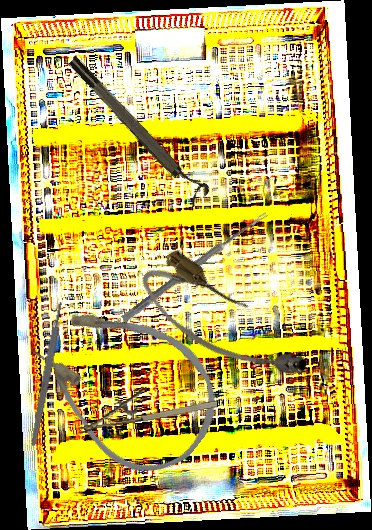Cannula: (7, 271, 243, 497), (130, 242, 318, 407)
Fixation Ring: (65, 48, 213, 208)
Needle Holder: (74, 376, 219, 434)
Scalpel Handle: (29, 301, 65, 447)
Surgical Spoon: (121, 209, 269, 324)
